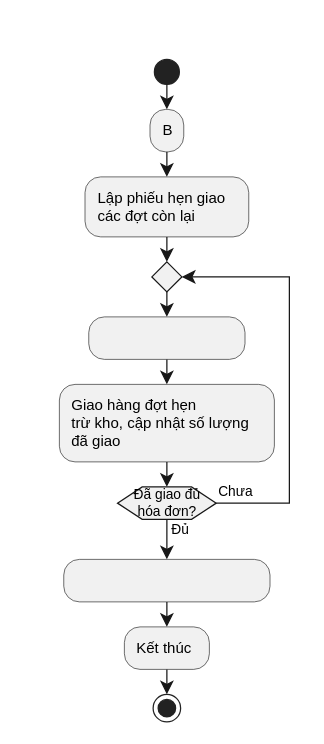
Some shapes in this 324 by 744 pixel diagram are drawn without their labels. Each missing label, with the centre of its shape:
Chờ đến ngày hẹn: (166,337)
Đóng hóa đơn: Đã giao đủ: (166,580)
